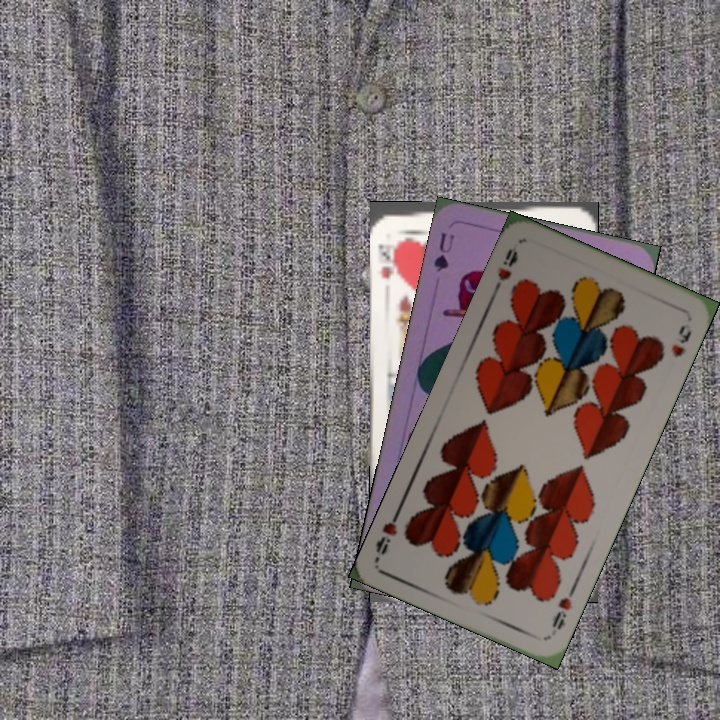GU: (429, 228, 457, 275)
H9: (489, 243, 521, 296), (548, 582, 578, 632)
HK: (377, 236, 404, 281)
